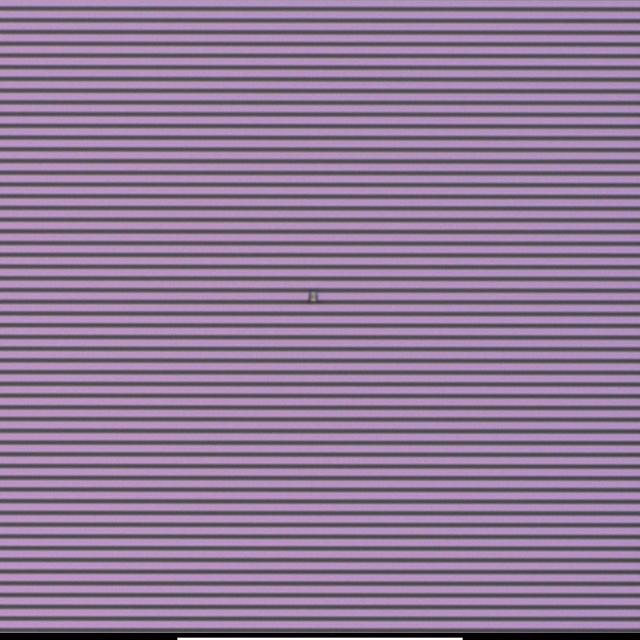03_intrusion: (308, 286, 322, 306)
